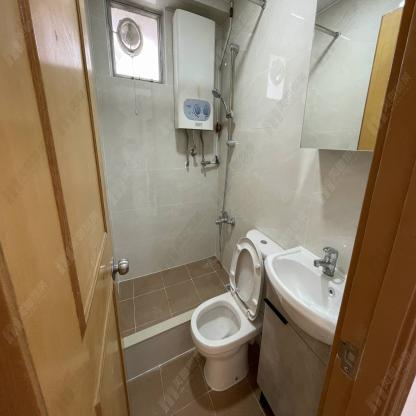Exhaust Fan: (115, 13, 144, 59)
Toilet: (189, 229, 285, 391)
Toilet Sink: (263, 245, 347, 346)
Water Cubicle: (117, 254, 231, 382)
Water Heater: (171, 8, 215, 132)
